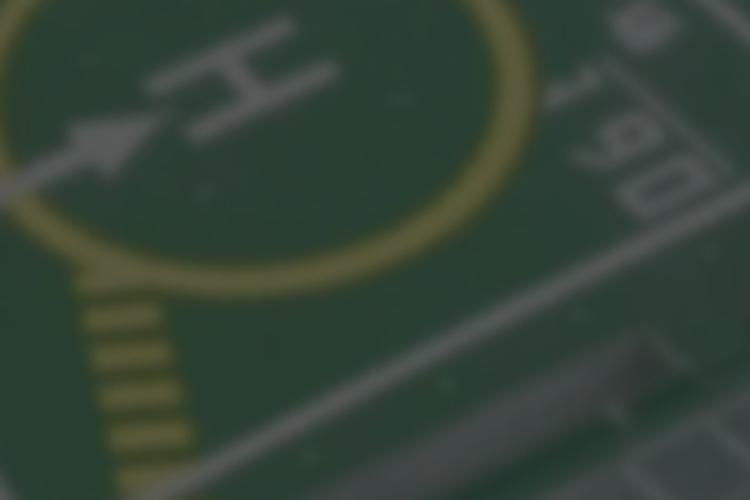Apron: (1, 1, 560, 302)
